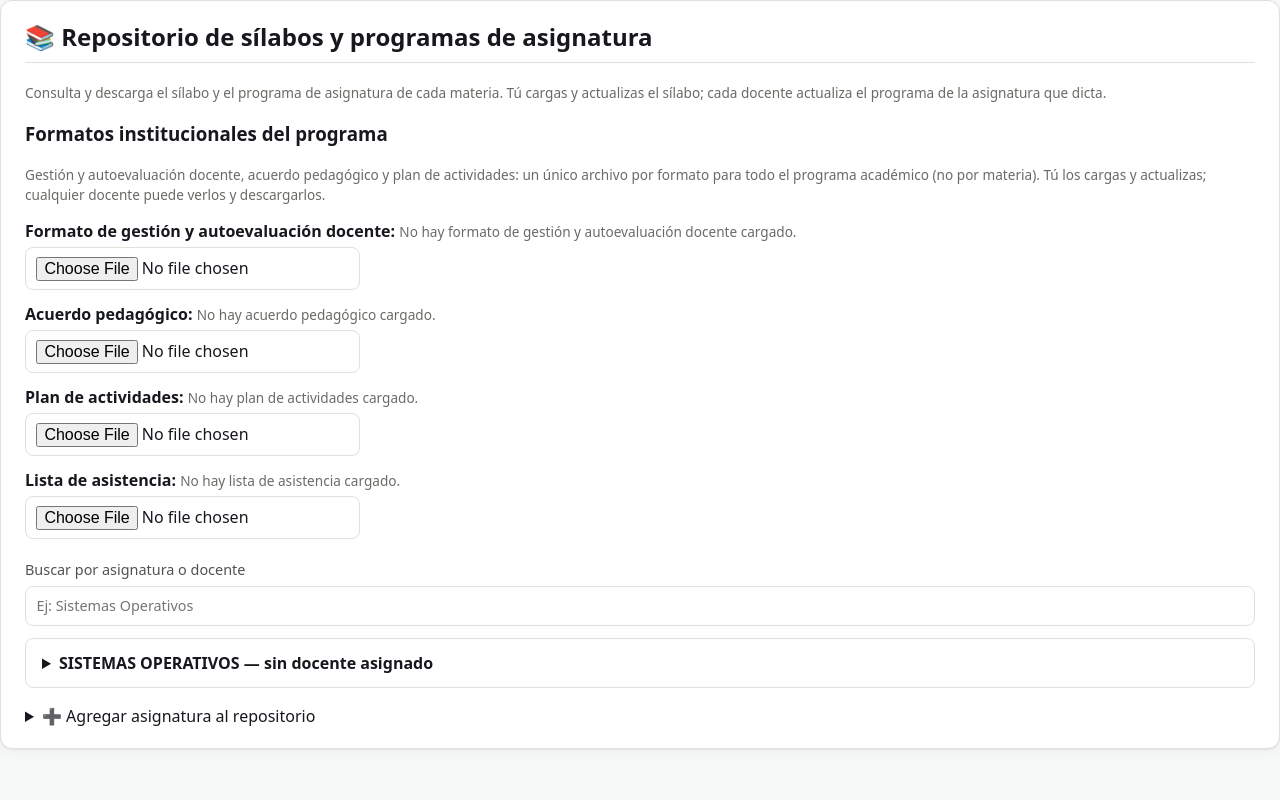
RepositorioAsignaturas — sugerencia de materia al agregar › al elegir una sugerencia, prellena el campo 'Nombre de la asignatura'
Click the heading "➕ Agregar asignatura al repositorio": [179, 716] box [42, 705, 315, 727]
(page scrolled)
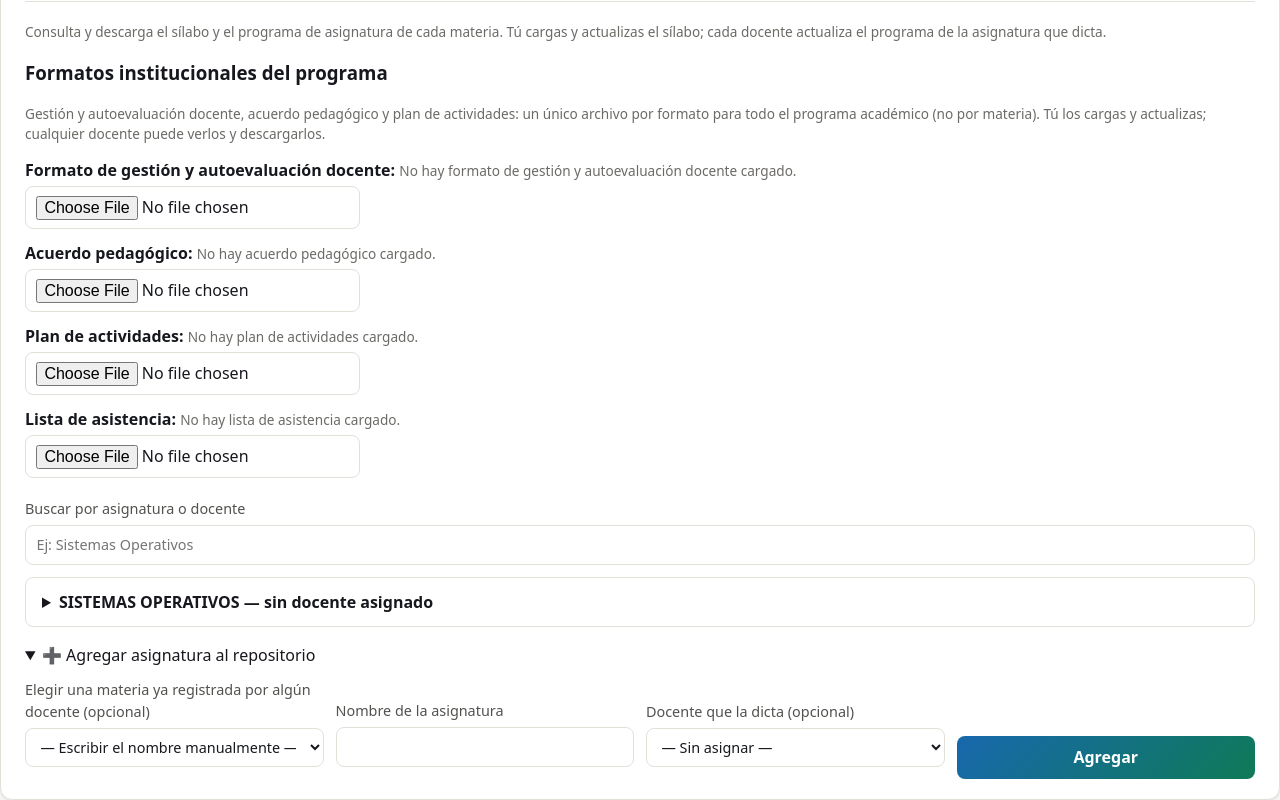
Select "INTELIGENCIA ARTIFICIAL" in the dropdown labelled "Elegir una materia ya registrada por algún docente (opcional)": [174, 747] box [25, 728, 324, 767]
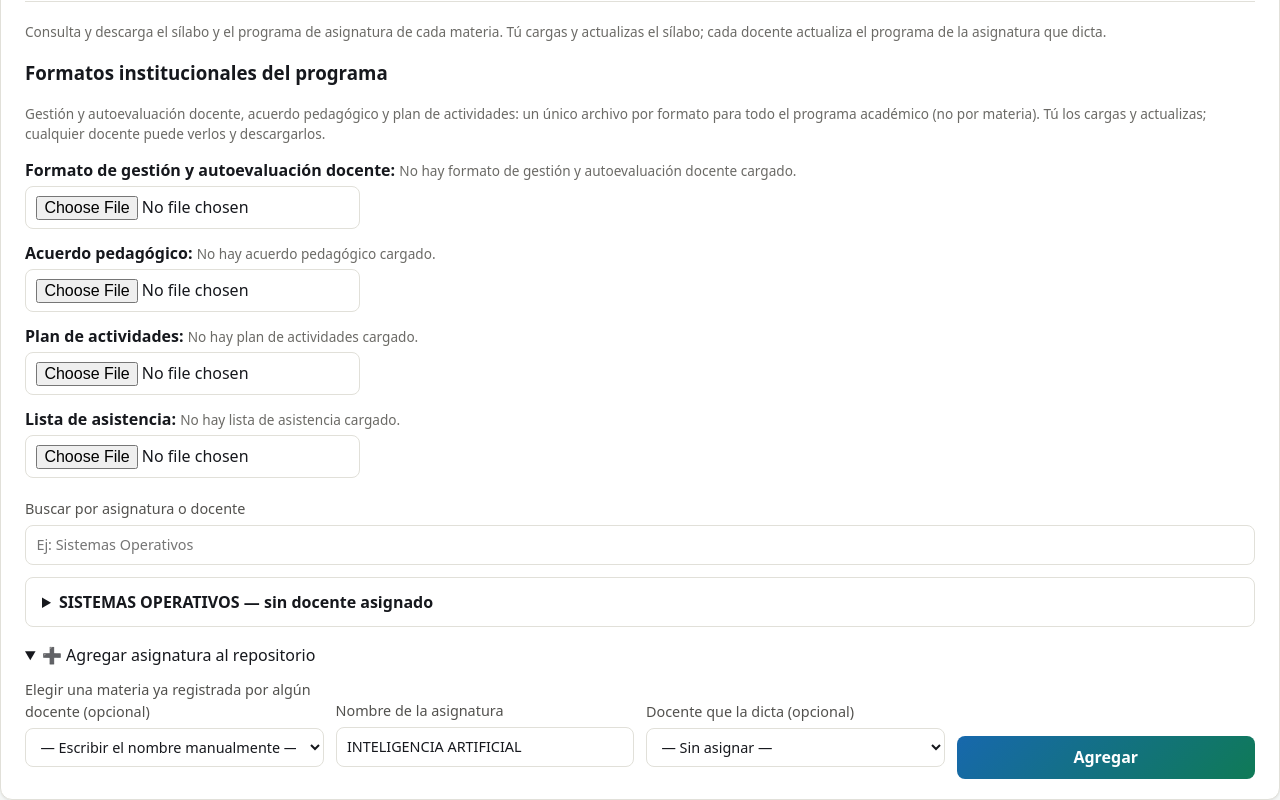
Expected: the field labelled "Nombre de la asignatura" holds "INTELIGENCIA ARTIFICIAL", [336, 727, 634, 767]
